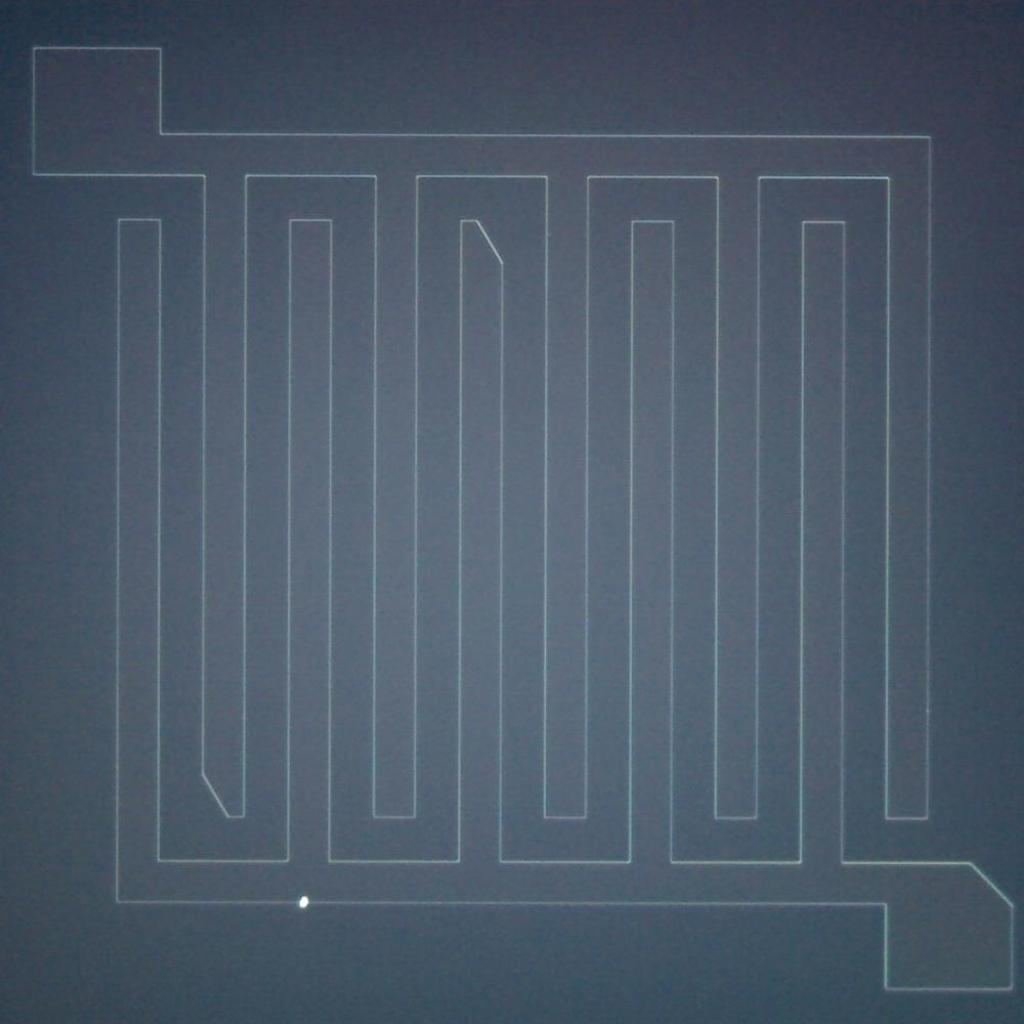dot: (298, 896, 310, 907)
